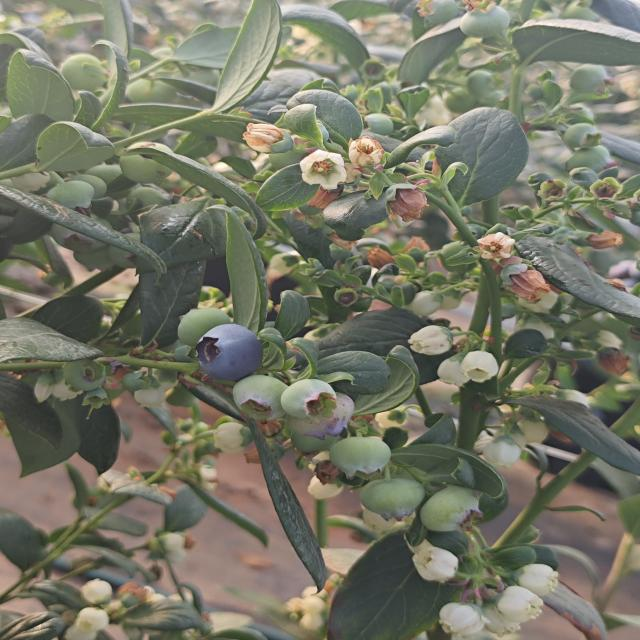ripe: (190, 321, 266, 384), (456, 3, 512, 42)
